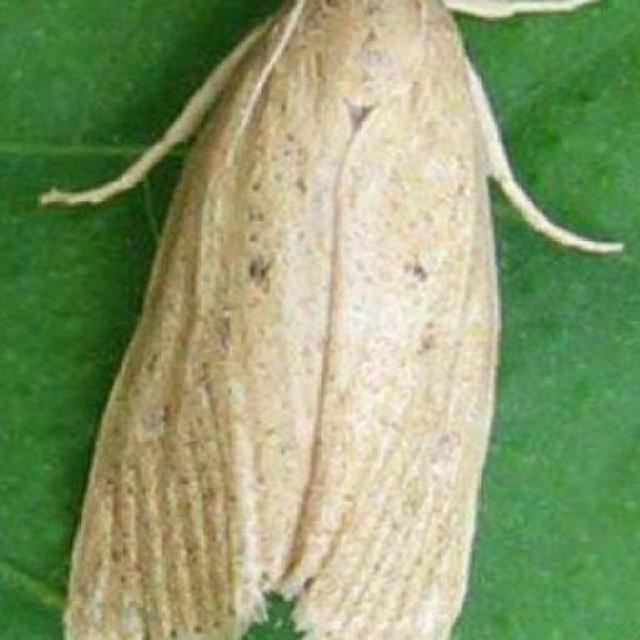stem-borer: (55, 0, 516, 640)
